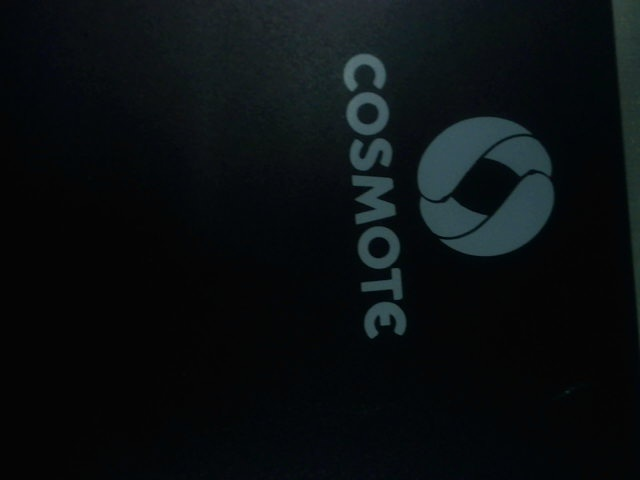AU_COSMOTE: (322, 44, 569, 339)
